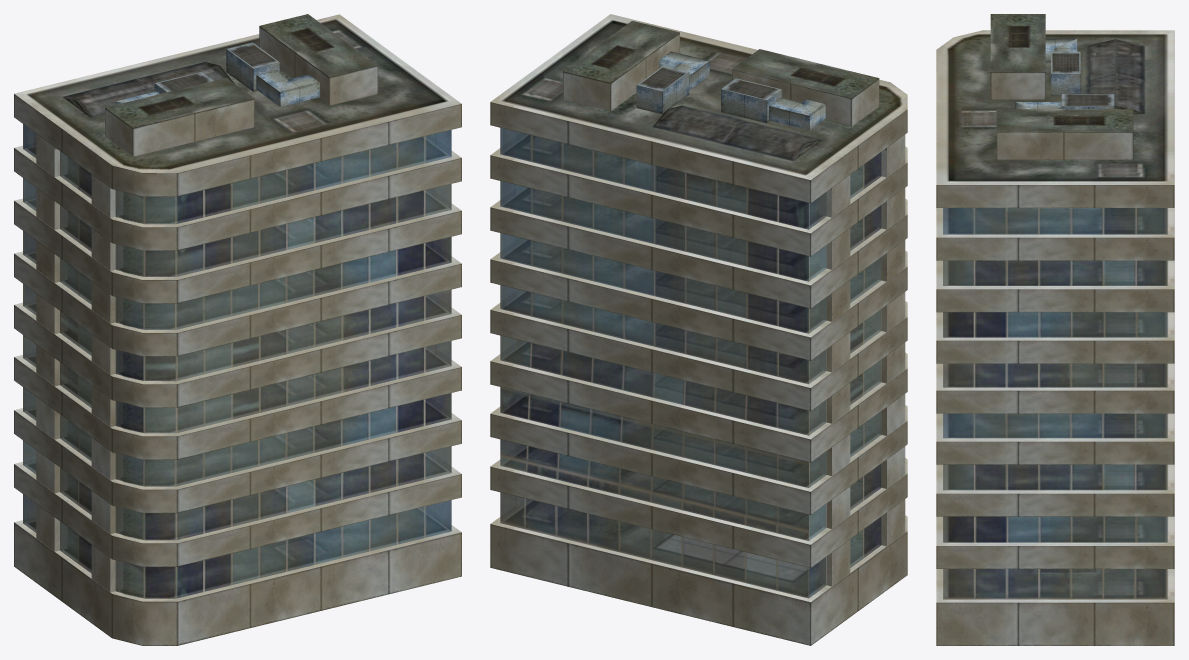
File: Civilian - Civilian Building - Highrise 01 - Night - CBHigh01_N.glb
3 views of the same model, side by side, from view 1: azimuth 30°, elevation 25°; view 2: azimuth 150°, elevation 25°; view 3: azimuth 270°, elevation 25° (orthographic). The views are drawn at different scales.
Visible parts, largest first — view 1: CBHIGH01_N; view 2: CBHIGH01_N; view 3: CBHIGH01_N.
Boxes of the visible parts, x1=… form: CBHIGH01_N: x1=14, y1=14, x2=461, y2=645; CBHIGH01_N: x1=490, y1=14, x2=907, y2=645; CBHIGH01_N: x1=936, y1=14, x2=1174, y2=645.
Size of the model in its own units: 57.43 by 84.51 by 37.31.
Materials: 1 (1 with a texture image).
